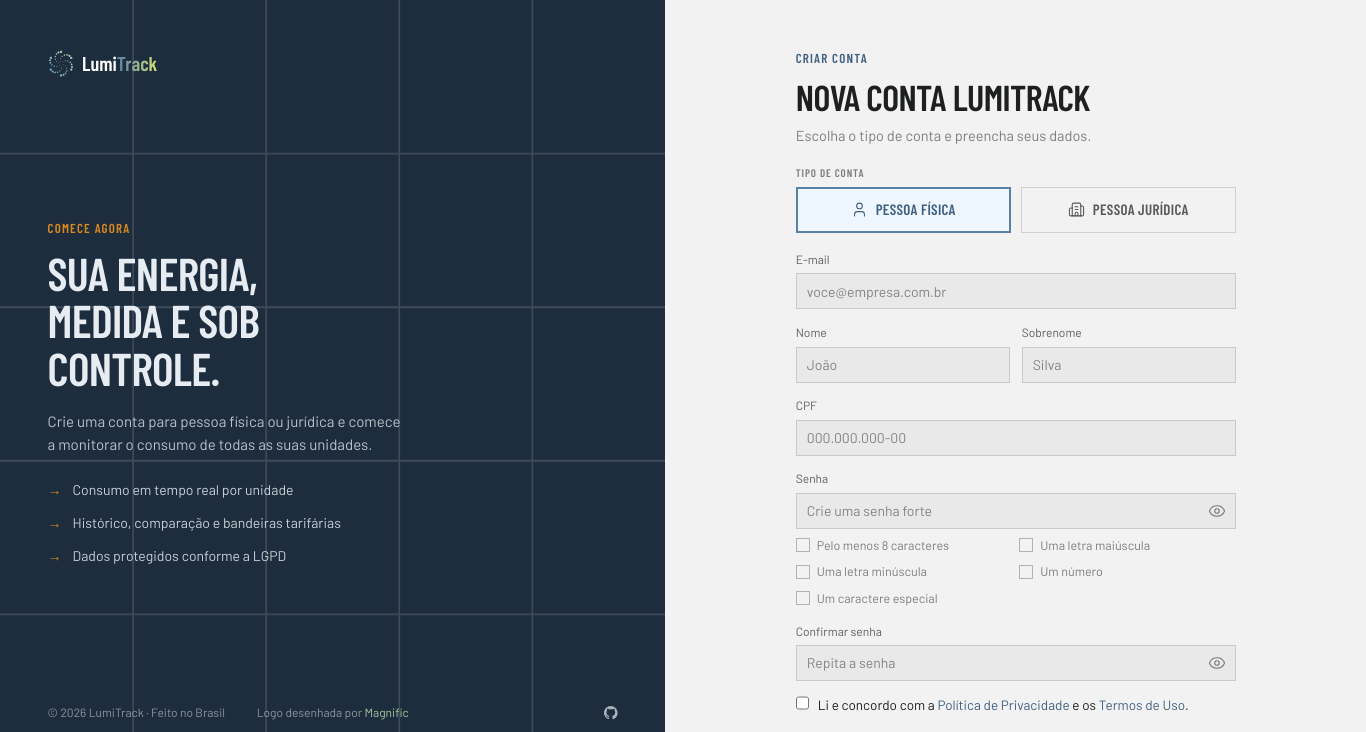
Test: RegisterPage — máscaras › aplica máscara de CPF conforme digita
Type "52998224725" into the field labelled "CPF".
click(1016, 438); type("52998224725")  # box [796, 420, 1236, 456]
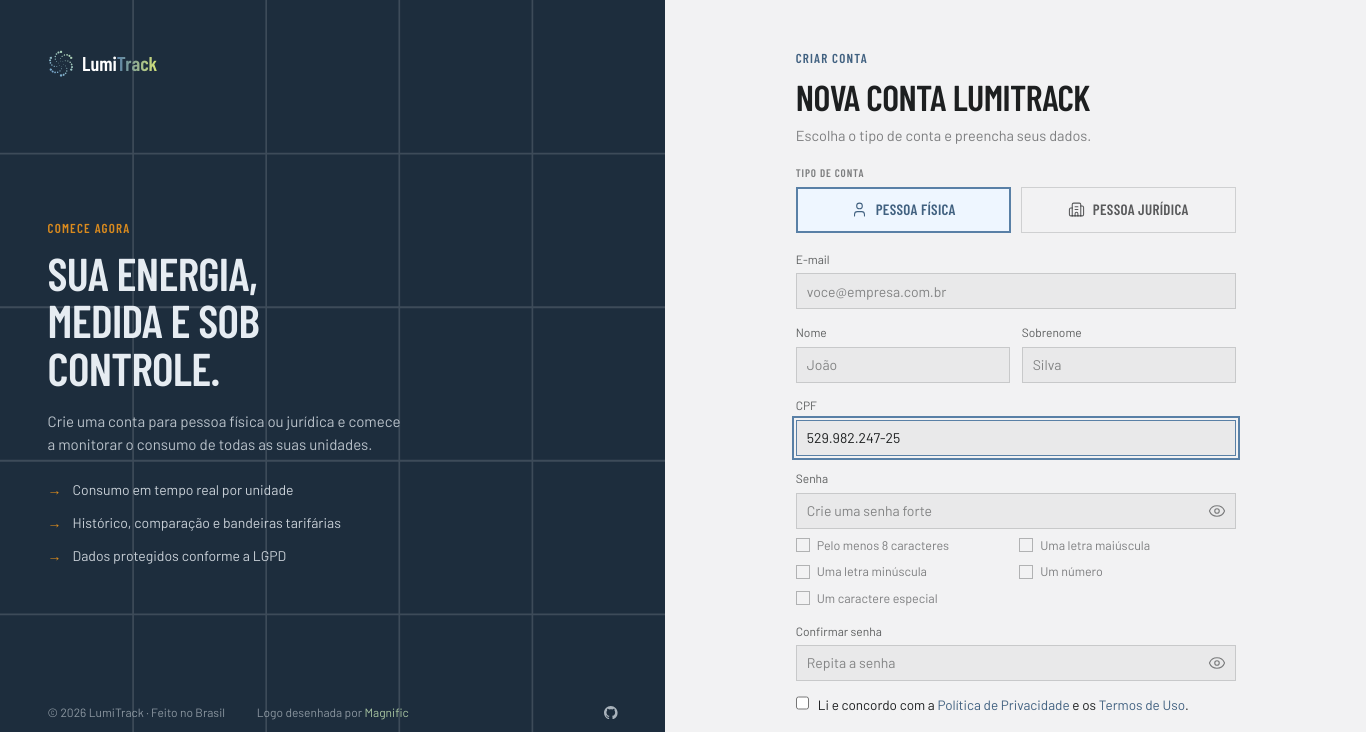
Result: the field labelled "CPF" holds "529.982.247-25" at [796, 420, 1236, 456]
